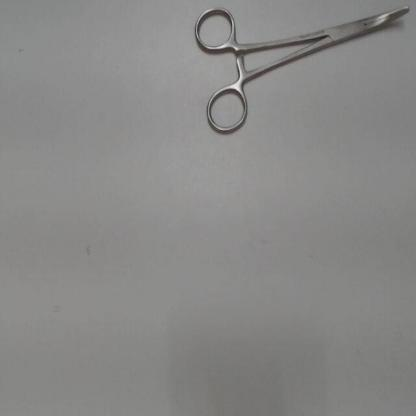Crile Artery Forceps: (190, 1, 414, 138)
